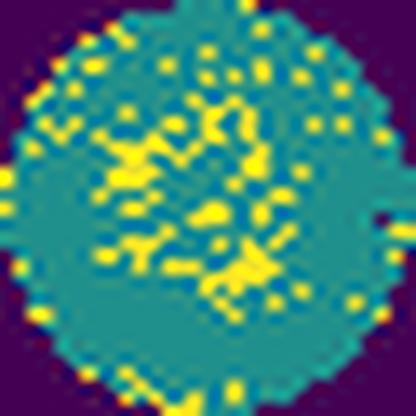Donut: (82, 77, 318, 347)
